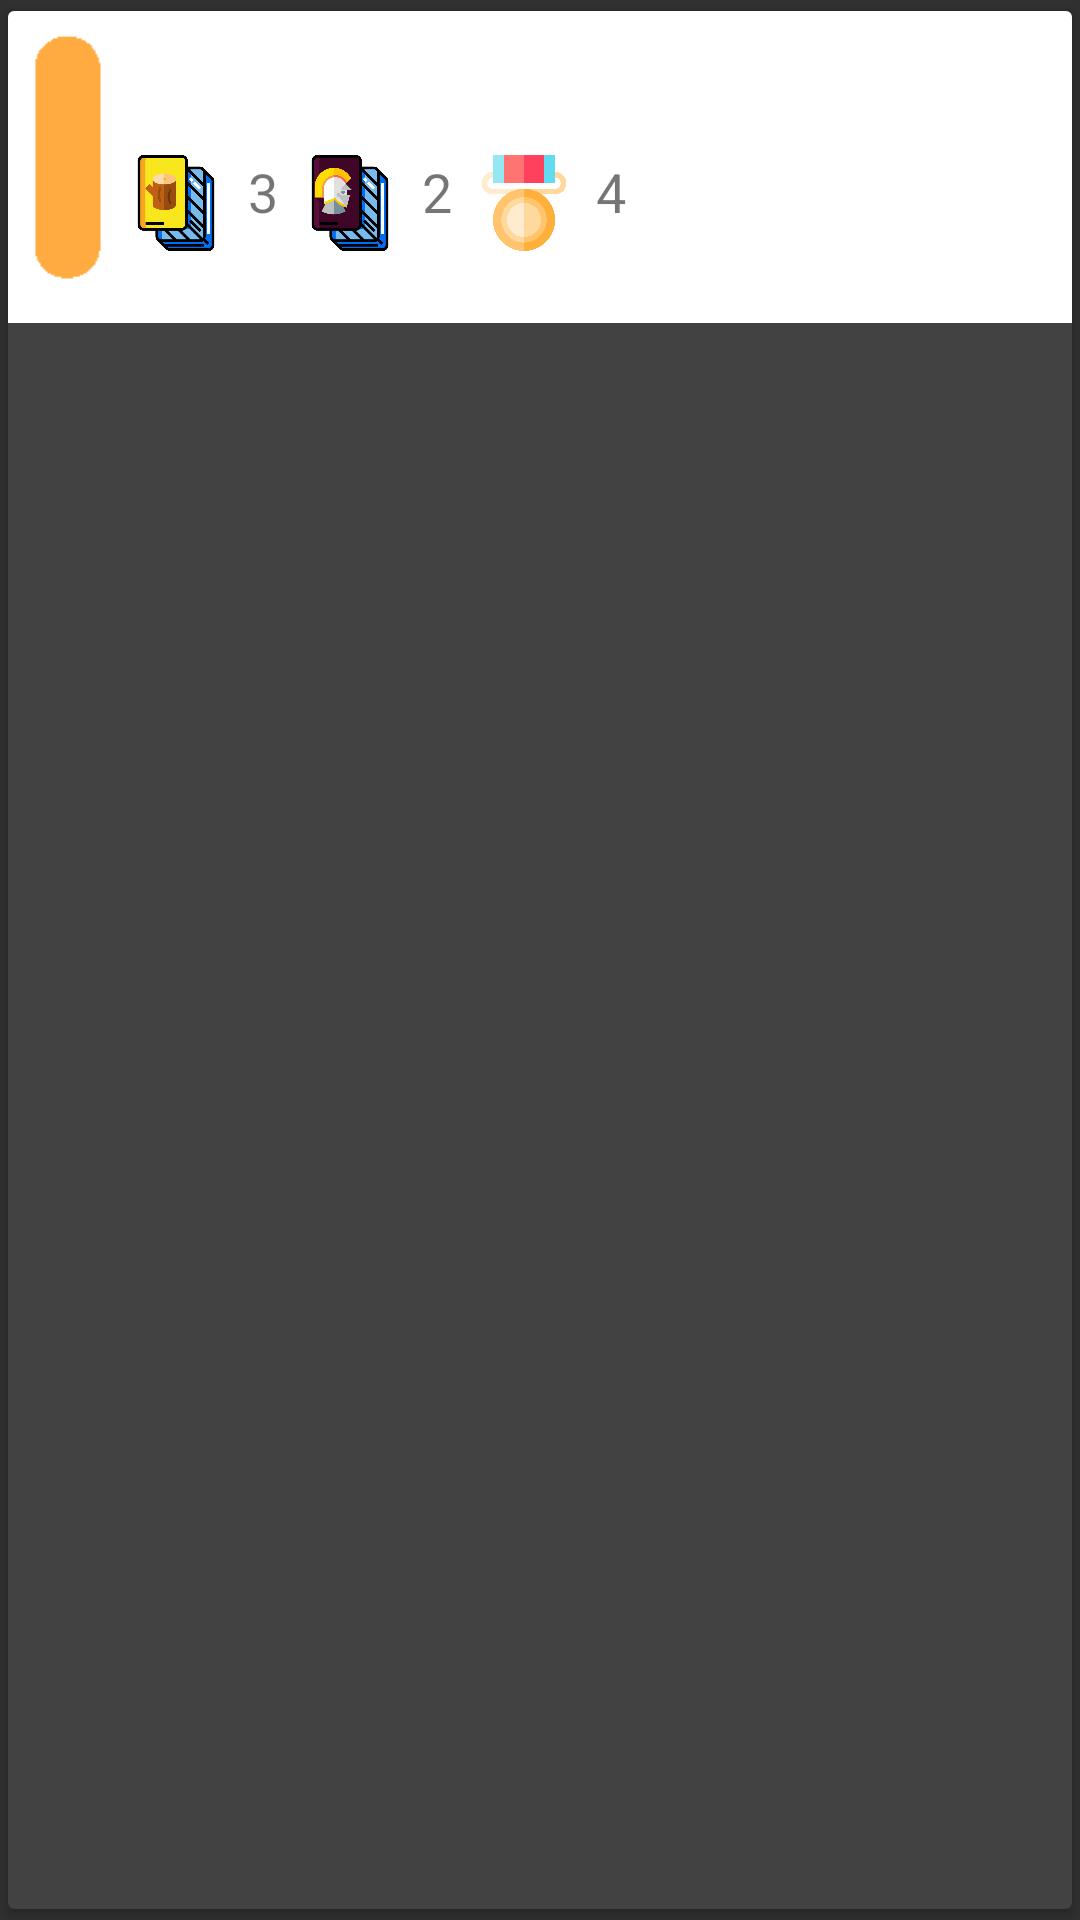

Screen size 1080px x 1920px. Icon name, then its center in pixels as (x=x, y=y):
entwicklungkarten: (x=350, y=203)
medal: (x=524, y=203)
resourcenkarte: (x=176, y=203)
